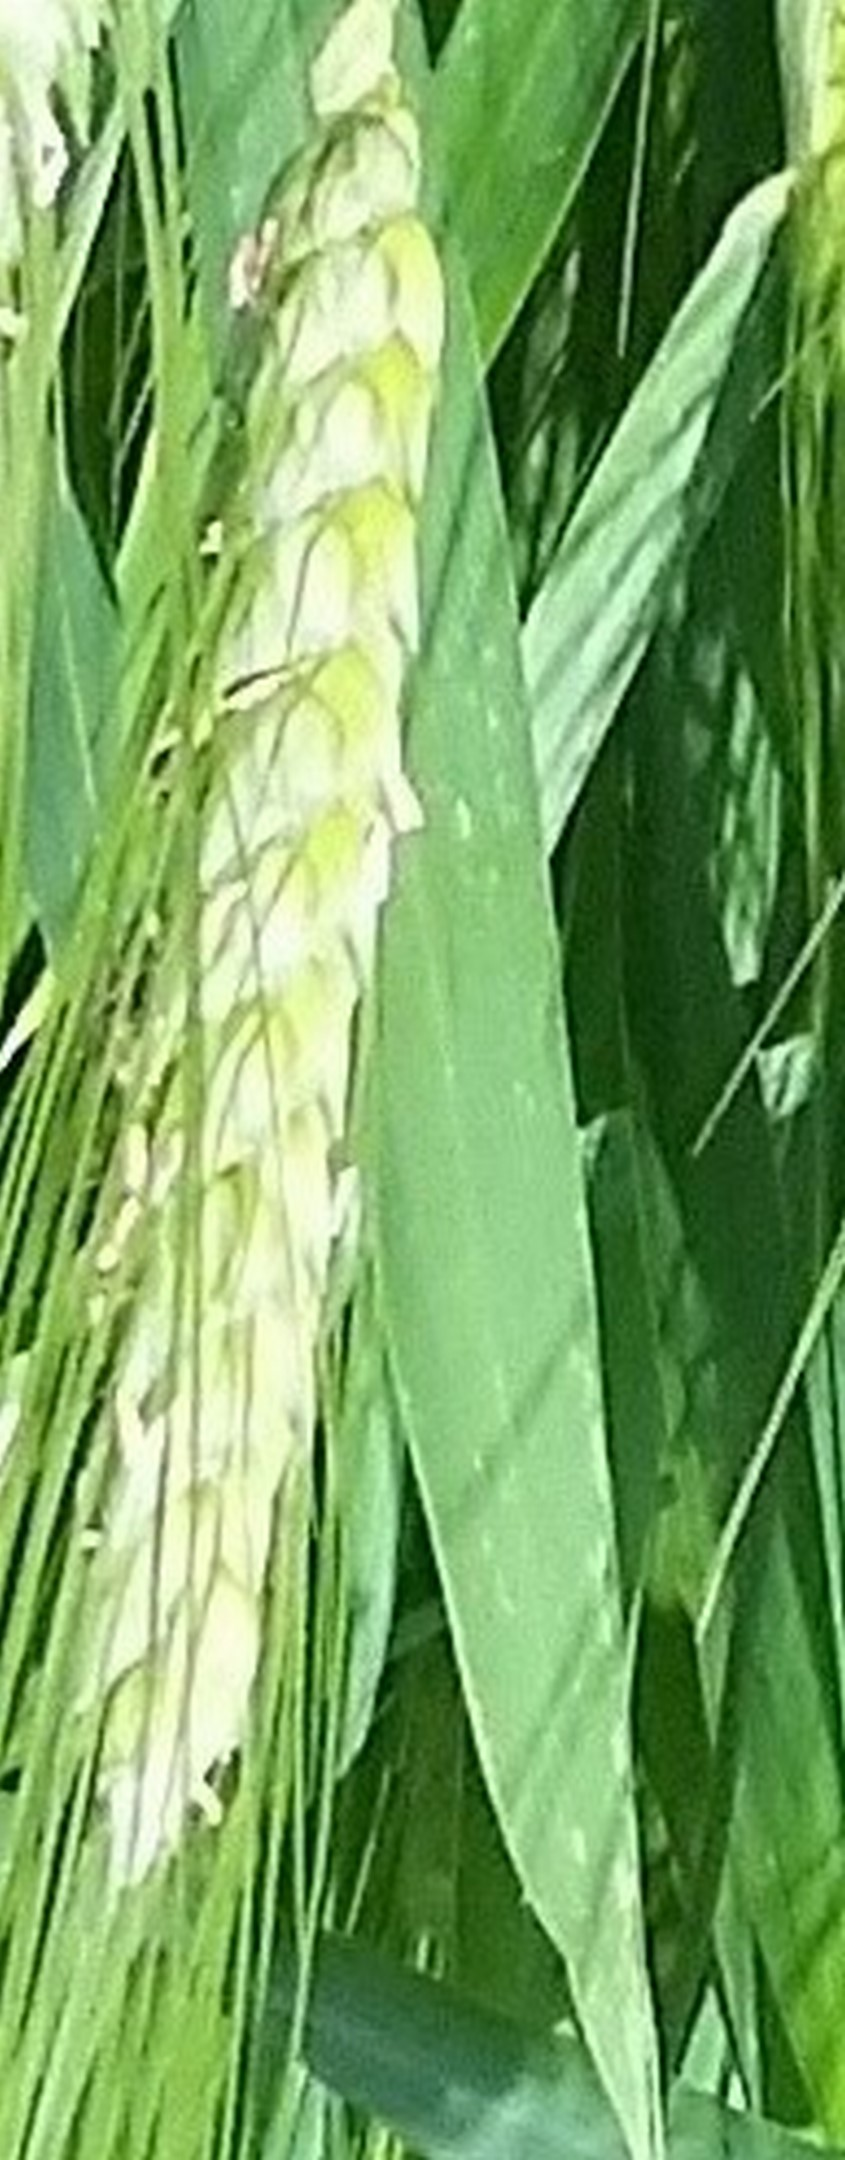Healthy Wheat: (50, 131, 514, 1811)
